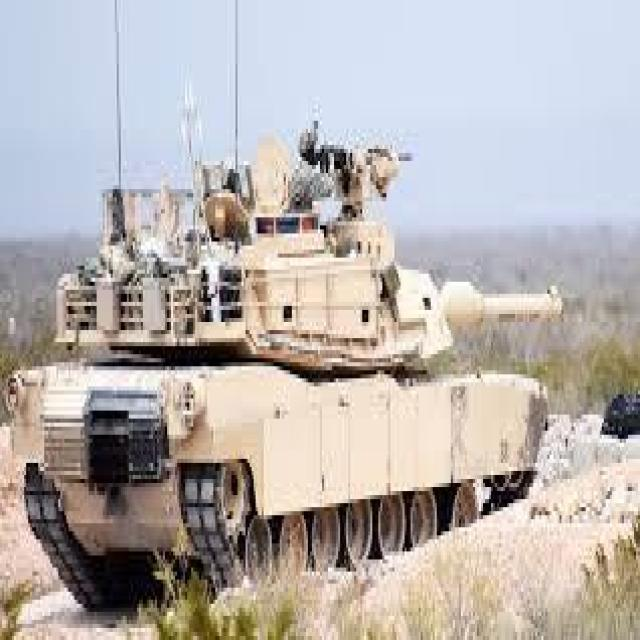Tanks: (15, 233, 555, 568)
